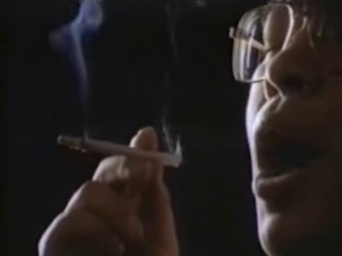smoke: (57, 133, 178, 169)
